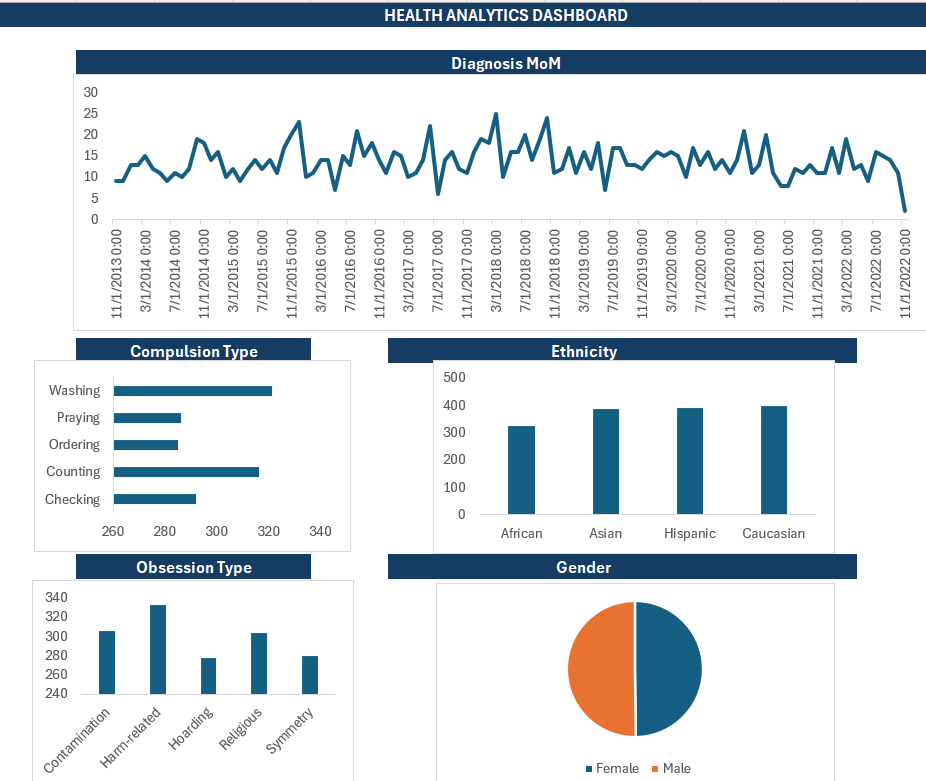

This screenshot's page, from the dashboard's own definition file:
{"tool":"powerbi","page":{"name":"Page 1","canvas":[1280,720],"ordinal":0},"visuals":[{"type":"textbox","box":[9.6,0,1270.7,48],"z":0},{"type":"lineChart","fields":{"Y":["Sum(Diagnosed mom.patient_count)"],"Category":["Diagnosed mom.month.Variation.Date Hierarchy.Year","Diagnosed mom.month.Variation.Date Hierarchy.Quarter","Diagnosed mom.month.Variation.Date Hierarchy.Month","Diagnosed mom.month.Variation.Date Hierarchy.Day"]},"box":[9.6,48,1259.7,149.6],"z":1000},{"type":"donutChart","fields":{"Category":["Gender.Gender"],"Y":["Sum(Gender.patient_count)"]},"box":[9.6,227.8,352.7,200.3],"z":2000},{"type":"clusteredBarChart","fields":{"Category":["Ethinicity.Ethnicity"],"Y":["Sum(Ethinicity.patient_count)"],"Series":["Ethinicity.patient_count"]},"box":[407.5,227.8,861.8,200.3],"z":3000},{"type":"columnChart","fields":{"Category":["Compulsion_type.Compulsion Type"],"Y":["Sum(Compulsion_type.patient_count)"]},"box":[9.6,463.8,532.4,212.7],"z":4000},{"type":"lineChart","title":"Obsession_Count against Avg_Obs_Score","fields":{"Category":["Obs_type.Obsession Type"],"Y":["Sum(Obs_type.patient_count)","Sum(Obs_type.obsession_score)"]},"box":[558.5,463.8,712.2,212.7],"z":4001}]}

Visuals, with their boxes on the page's 1280x720 design canvas (x1, y1, x2, y2). These are canvas units, not pixel positions in the 926x781 screenshot, which may show the page scaled, cropped or inside an application window:
textbox: (left=10, top=0, right=1280, bottom=48)
lineChart - Sum(Diagnosed mom.patient_count) x Diagnosed mom.month.Variation.Date Hierarchy.Year: (left=10, top=48, right=1269, bottom=198)
donutChart - Gender.Gender x Sum(Gender.patient_count): (left=10, top=228, right=362, bottom=428)
clusteredBarChart - Ethinicity.Ethnicity x Sum(Ethinicity.patient_count): (left=408, top=228, right=1269, bottom=428)
columnChart - Compulsion_type.Compulsion Type x Sum(Compulsion_type.patient_count): (left=10, top=464, right=542, bottom=676)
"Obsession_Count against Avg_Obs_Score" lineChart: (left=558, top=464, right=1271, bottom=676)
